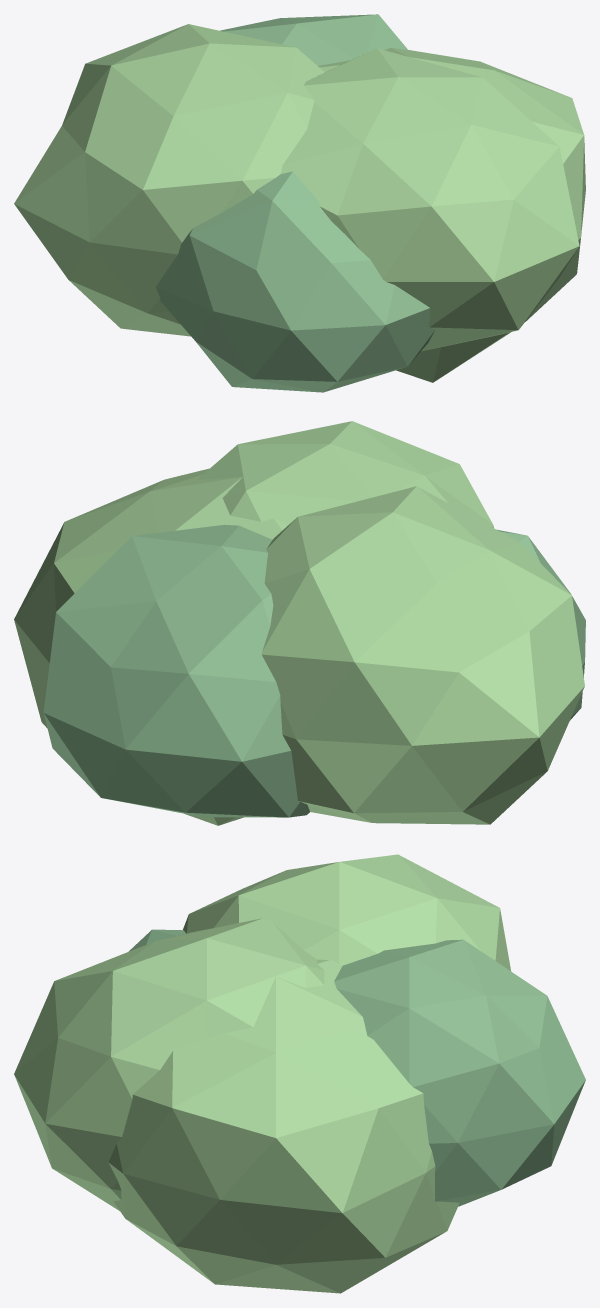
Rendered from bush_a.glb.
3 renders of one model, top to bottom at view 1: azimuth 30°, elevation 25°; view 2: azimuth 150°, elevation 25°; view 3: azimuth 270°, elevation 25°, orthographic. The views are drawn at different scales.
Parts seen in each view (by area): view 1: bush_a; view 2: bush_a; view 3: bush_a.
Part boxes in pixels (bbox=[...]): bush_a: bbox=[14, 14, 585, 392]; bush_a: bbox=[14, 421, 585, 825]; bush_a: bbox=[14, 854, 585, 1293].
Size of the model in its own units: 1.3 by 0.7827 by 1.25.
